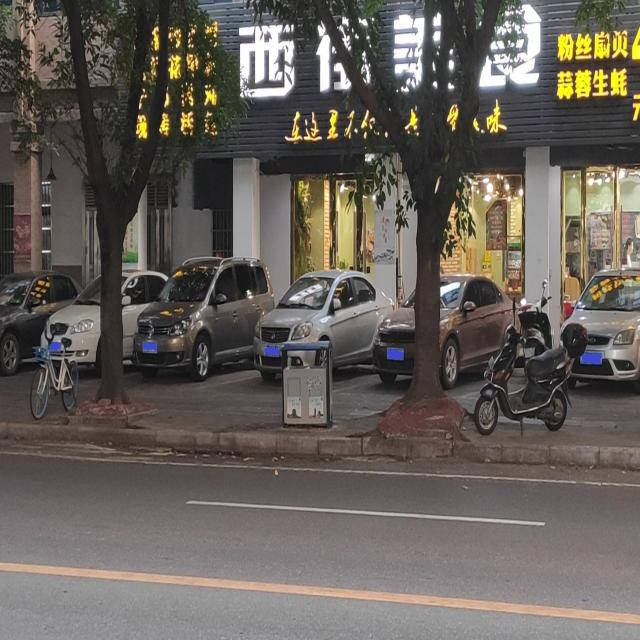ash bin: (283, 340, 335, 426)
bicycle: (28, 317, 81, 421)
car: (135, 252, 273, 382), (375, 268, 518, 389), (250, 267, 395, 382), (40, 269, 167, 379), (560, 266, 640, 394), (0, 269, 81, 375)
motorbike: (474, 292, 586, 434), (518, 275, 555, 367)
